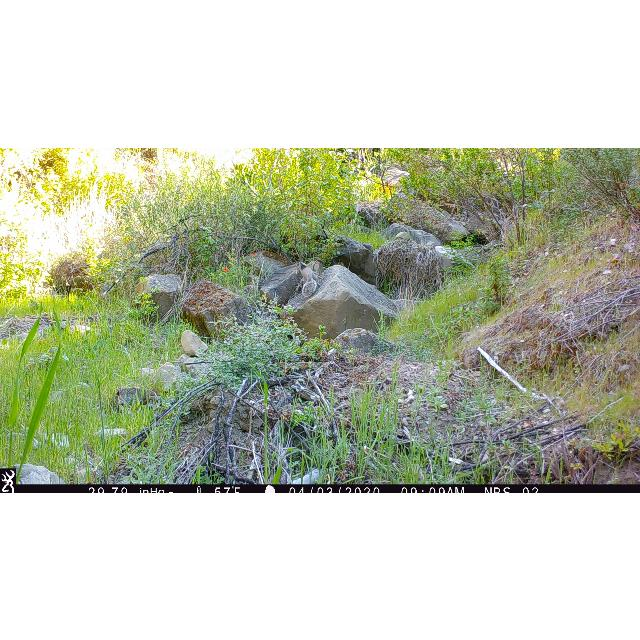animals: (299, 262, 323, 296)
